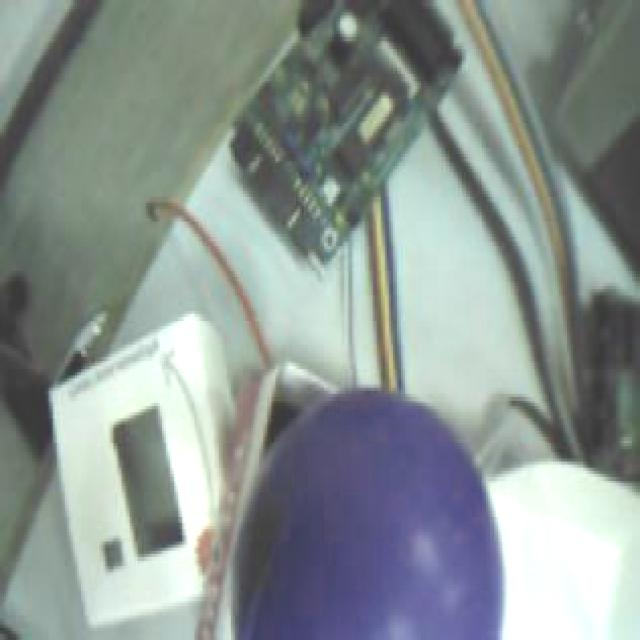BallPurple: (229, 386, 505, 640)
